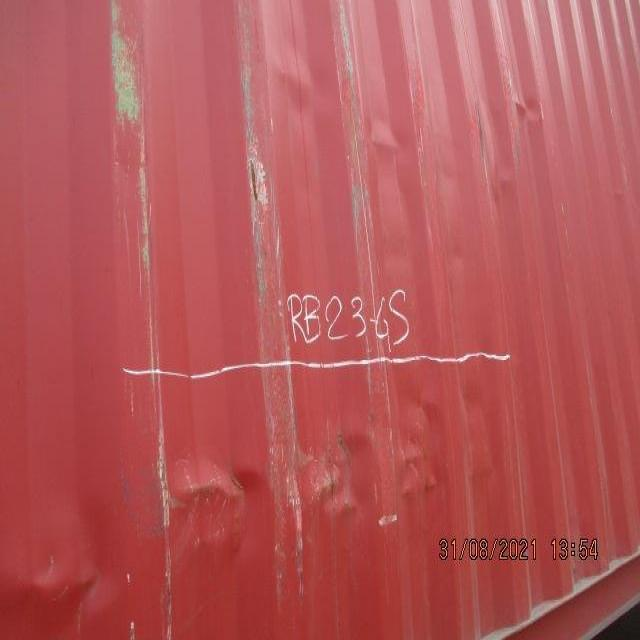dent: (3, 369, 514, 637), (262, 31, 567, 215)
